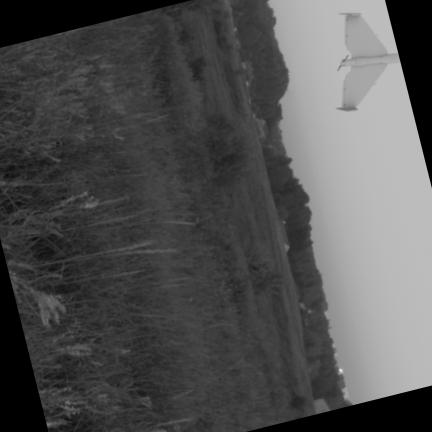Shahed: (338, 14, 399, 111)
